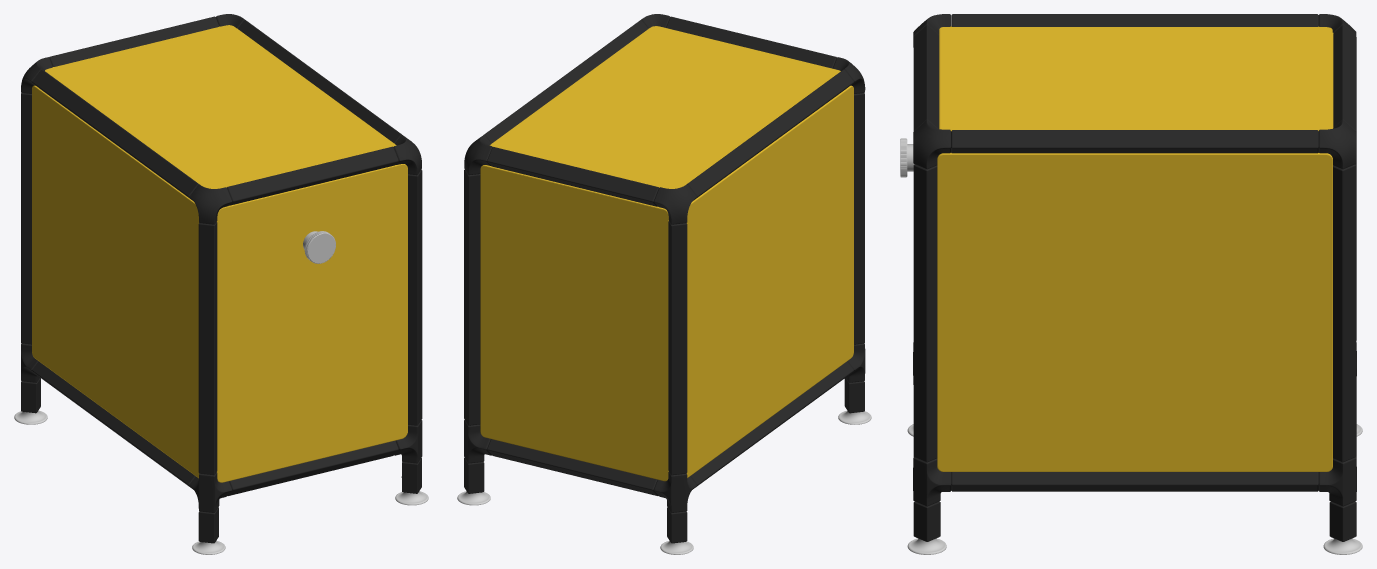
The picture shows the model from 3 angles, left to right: view 1: azimuth 30°, elevation 25°; view 2: azimuth 150°, elevation 25°; view 3: azimuth 270°, elevation 25°; orthographic projection. The views are drawn at different scales.
Parts seen in each view (by area): view 1: 229x374x329; view 2: 229x374x329; view 3: 229x374x329.
Boxes of the visible parts, box(x1,y1,x2,y2) form: 229x374x329: box(14, 14, 428, 554); 229x374x329: box(457, 14, 871, 554); 229x374x329: box(900, 14, 1362, 554).
Size of the model in its own units: 0.3189 by 0.4683 by 0.4707.
